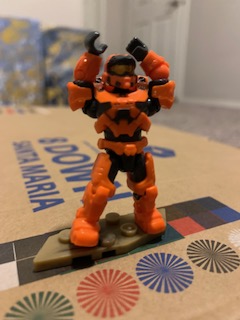spartan: (65, 31, 177, 242)
up: (59, 31, 177, 139)
